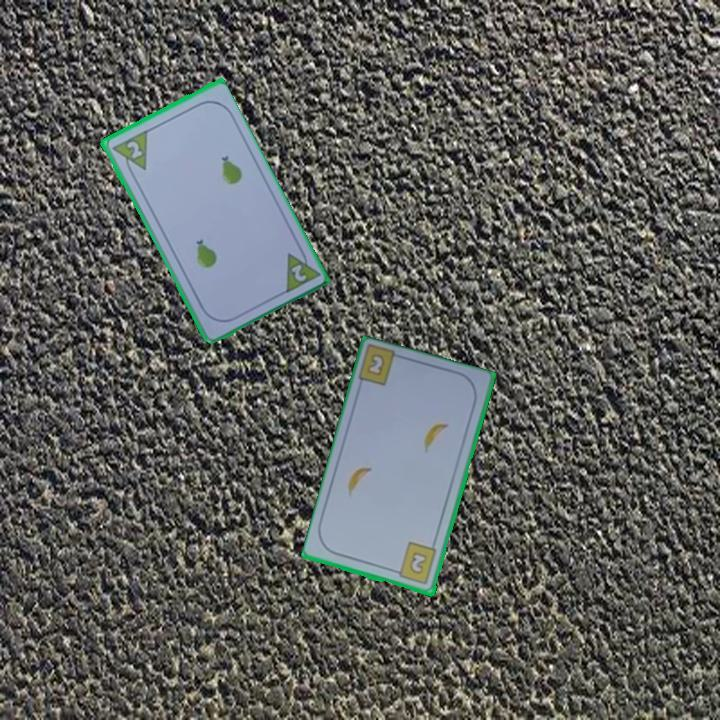2b: (390, 539, 439, 587), (366, 352, 386, 377)
2p: (280, 242, 322, 297), (122, 137, 145, 161)
